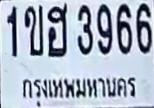1: (6, 7, 18, 57)
3: (76, 4, 94, 56)
6: (136, 2, 152, 54), (116, 3, 132, 54)
9: (96, 4, 112, 54)
A02: (24, 5, 44, 56)
A44: (47, 2, 68, 57)
BKK: (16, 72, 139, 107)
